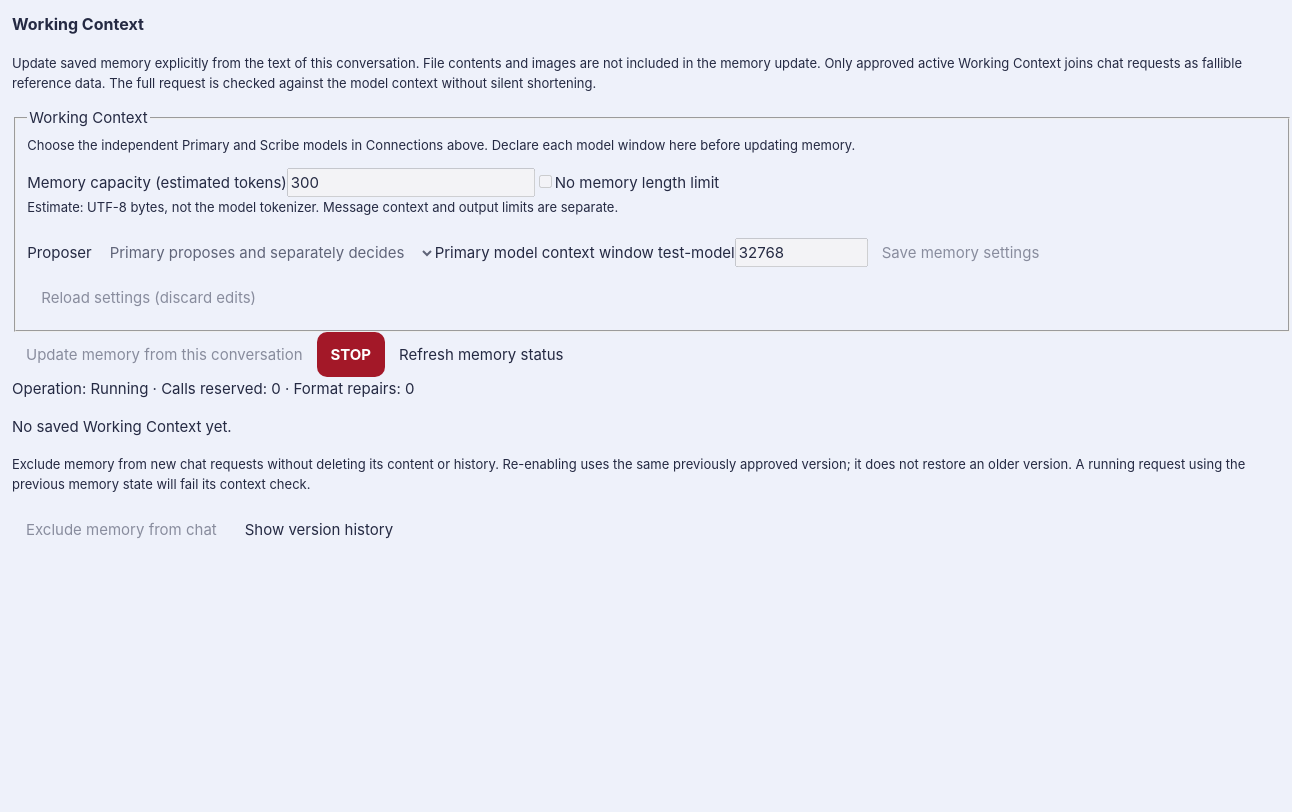
Test case: STOP is scoped and shows durable cancellation
This screenshot has width=1292, height=812.
Click the button "STOP".
click(351, 355)  # box [317, 332, 385, 377]
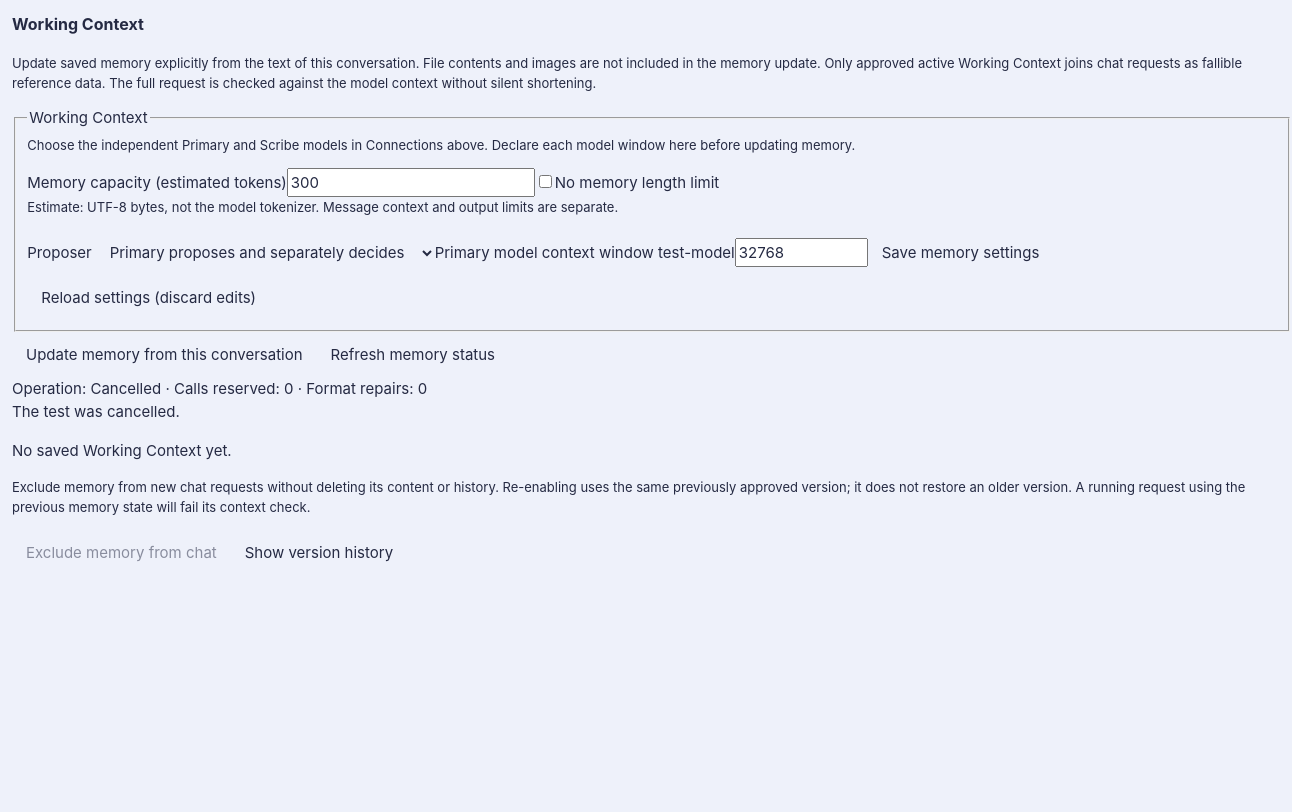
Result: the text "cancelled" is shown at [12, 402, 180, 422]
